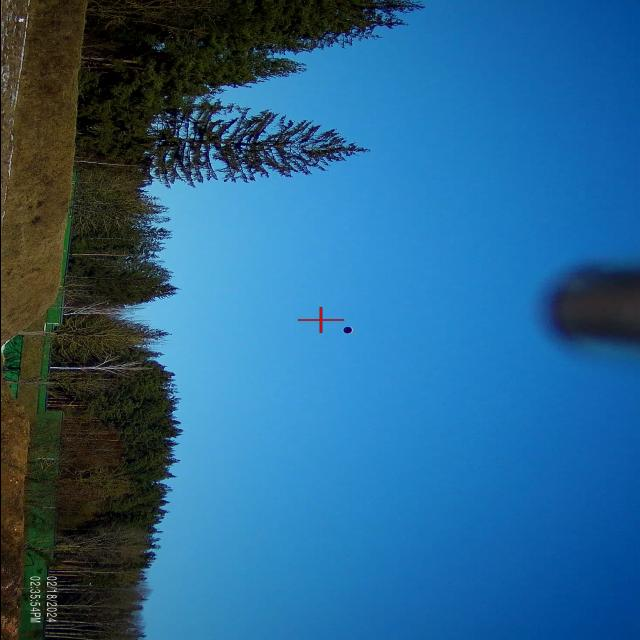entire: (336, 319, 364, 339)
